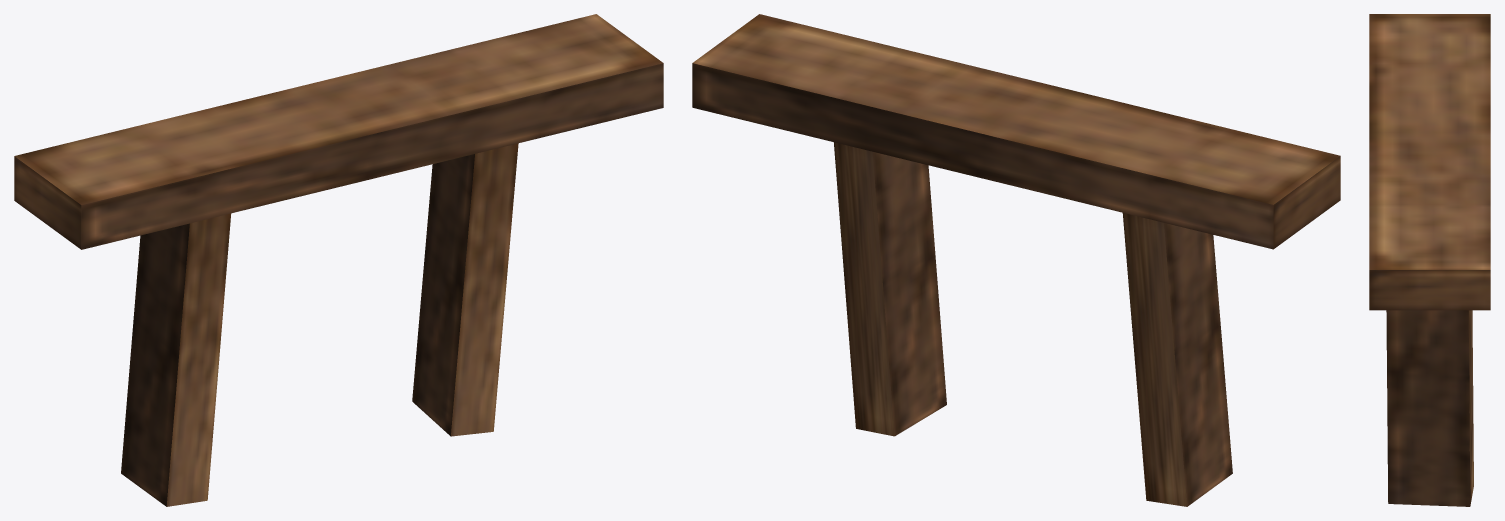
File: a_SWGutileffence01.glb
3 renders of one model, left to right at view 1: azimuth 30°, elevation 25°; view 2: azimuth 150°, elevation 25°; view 3: azimuth 270°, elevation 25°, orthographic. The views are drawn at different scales.
Visible parts, largest first — view 1: a_SWGutileffence01; view 2: a_SWGutileffence01; view 3: a_SWGutileffence01.
Part boxes in pixels (bbox=[...]): a_SWGutileffence01: bbox=[14, 14, 663, 506]; a_SWGutileffence01: bbox=[692, 14, 1340, 506]; a_SWGutileffence01: bbox=[1369, 14, 1490, 506].
Size of the model in its own units: 1 by 0.5536 by 0.2.
Materials: 1 (1 with a texture image).
